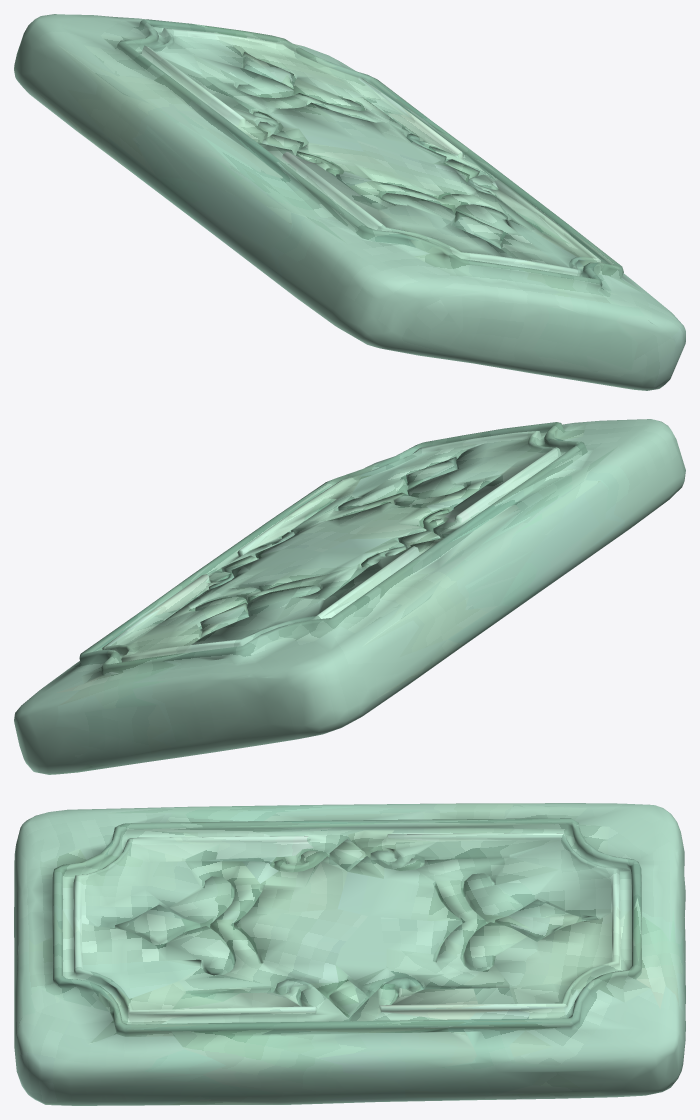
The model's file is KR_사물_s1_item_bill.glb.
3 views of the same model, one above another, from view 1: azimuth 30°, elevation 25°; view 2: azimuth 150°, elevation 25°; view 3: azimuth 270°, elevation 25° (orthographic). The views are drawn at different scales.
Parts seen in each view (by area): view 1: tripo_node_385323d2-e25c-4bee-be05-6eb55a13a510; view 2: tripo_node_385323d2-e25c-4bee-be05-6eb55a13a510; view 3: tripo_node_385323d2-e25c-4bee-be05-6eb55a13a510.
Boxes of the visible parts, box(x1,y1,x2,y2) form: tripo_node_385323d2-e25c-4bee-be05-6eb55a13a510: box(14, 14, 685, 390); tripo_node_385323d2-e25c-4bee-be05-6eb55a13a510: box(14, 419, 685, 774); tripo_node_385323d2-e25c-4bee-be05-6eb55a13a510: box(14, 803, 685, 1105).
Size of the model in its own units: 0.5386 by 0.2891 by 1.
Materials: 1 (1 with a texture image).
